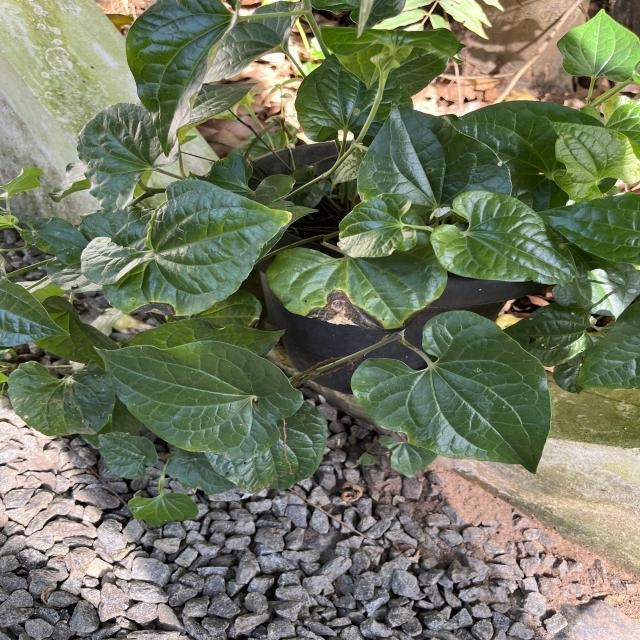Piper longum: (348, 308, 554, 477), (90, 338, 305, 461), (354, 96, 514, 200), (428, 188, 580, 286), (554, 4, 640, 84), (334, 192, 420, 258)
